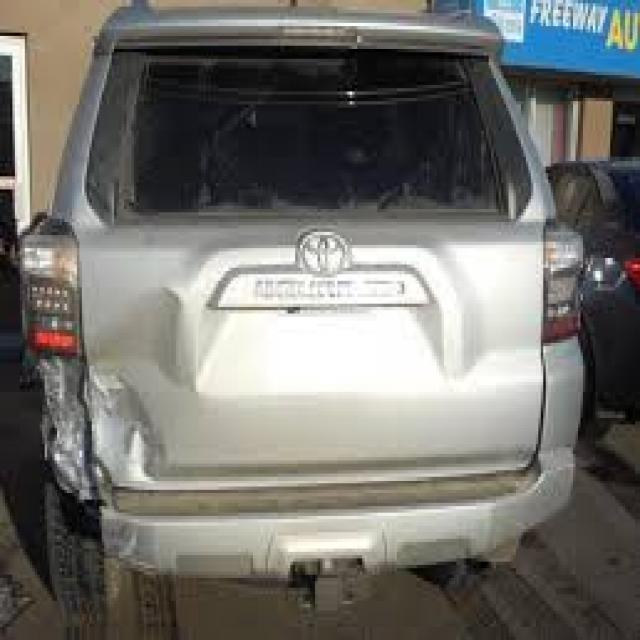dent-or-scratch: (88, 366, 186, 486)
